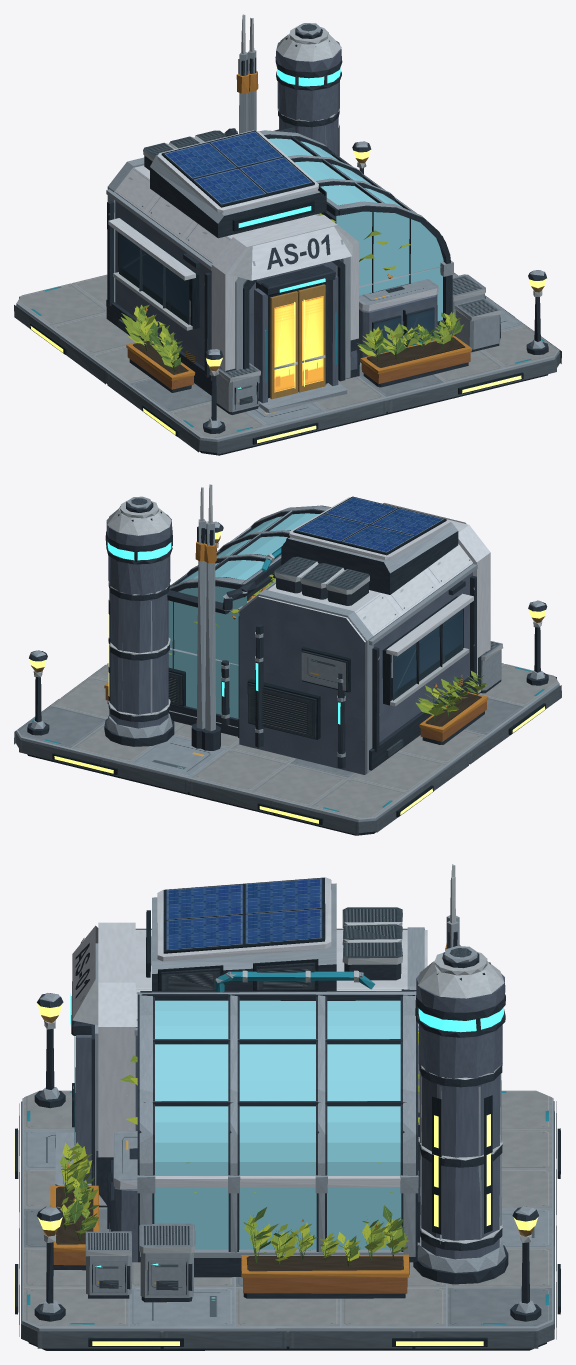
The model's file is AS01_ViviendaAutosuficiente_Distancia.fbx.
3 views of the same model, one above another, from view 1: azimuth 30°, elevation 25°; view 2: azimuth 150°, elevation 25°; view 3: azimuth 270°, elevation 25° (orthographic). The views are drawn at different scales.
Parts seen in each view (by area): view 1: AS01_EstructuraDistancia, AS01_AcristalamientoDistancia; view 2: AS01_EstructuraDistancia, AS01_AcristalamientoDistancia; view 3: AS01_EstructuraDistancia, AS01_AcristalamientoDistancia.
Boxes of the visible parts, box(x1,y1,x2,y2) form: AS01_EstructuraDistancia: box(14, 14, 561, 455); AS01_AcristalamientoDistancia: box(268, 138, 443, 321); AS01_EstructuraDistancia: box(14, 484, 561, 835); AS01_AcristalamientoDistancia: box(168, 513, 319, 718); AS01_EstructuraDistancia: box(14, 864, 561, 1350); AS01_AcristalamientoDistancia: box(154, 1000, 401, 1249).
Size of the model in its own units: 7.42 by 5.4 by 7.04.
